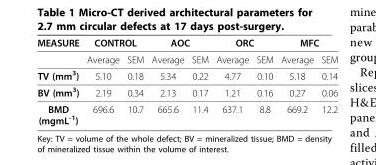table: (36, 36, 337, 125)
table column: (36, 36, 82, 125), (211, 36, 252, 125), (82, 36, 122, 125), (147, 36, 187, 125), (276, 36, 316, 125), (122, 36, 147, 125), (187, 36, 211, 125), (252, 36, 276, 125), (316, 36, 337, 125)
table column header: (36, 36, 337, 66)
table row: (36, 100, 337, 125), (36, 66, 337, 83), (36, 83, 337, 100), (36, 50, 337, 66), (36, 36, 337, 50)
table spanning cell: (36, 36, 82, 66), (82, 36, 147, 50), (211, 36, 276, 50), (147, 36, 211, 50), (276, 36, 337, 50)
